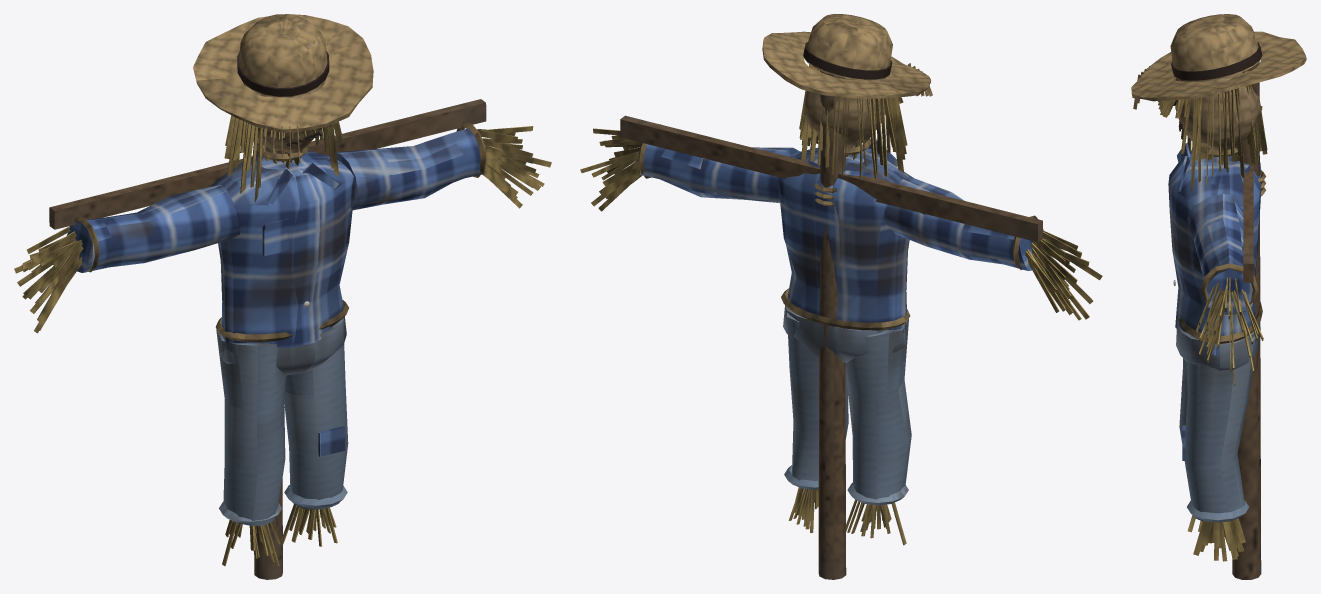
File: ScarecrowThai.fbx
3 views of the same model, side by side, from view 1: azimuth 30°, elevation 25°; view 2: azimuth 150°, elevation 25°; view 3: azimuth 270°, elevation 25° (orthographic). The views are drawn at different scales.
Visible parts, largest first — view 1: ScarecrowThai; view 2: ScarecrowThai; view 3: ScarecrowThai.
Part boxes in pixels (<box>): ScarecrowThai: <box>14,14,551,579</box>; ScarecrowThai: <box>580,14,1102,579</box>; ScarecrowThai: <box>1131,14,1306,579</box>.
Size of the model in its own units: 194 by 202 by 57.94.
1 material, 1 textured.
